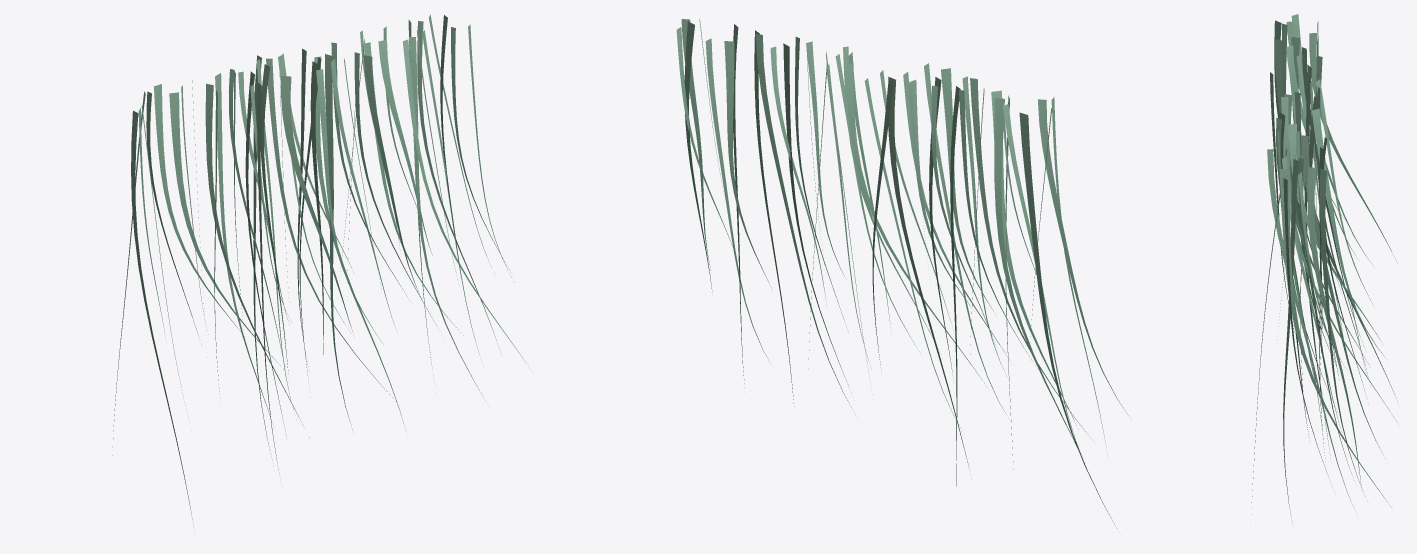
The model's file is mesh-plant-037-bridal-veilweed_LOD0.glb.
The picture shows the model from 3 angles, left to right: view 1: azimuth 30°, elevation 25°; view 2: azimuth 150°, elevation 25°; view 3: azimuth 270°, elevation 25°; orthographic projection. The views are drawn at different scales.
Parts seen in each view (by area): view 1: geometry_0; view 2: geometry_0; view 3: geometry_0.
Boxes of the visible parts, x1,y1,x2,y2 form: geometry_0: (112,14,528,529); geometry_0: (676,18,1128,525); geometry_0: (1251,14,1397,523).
Size of the model in its own units: 3.24 by 2.36 by 1.37.
